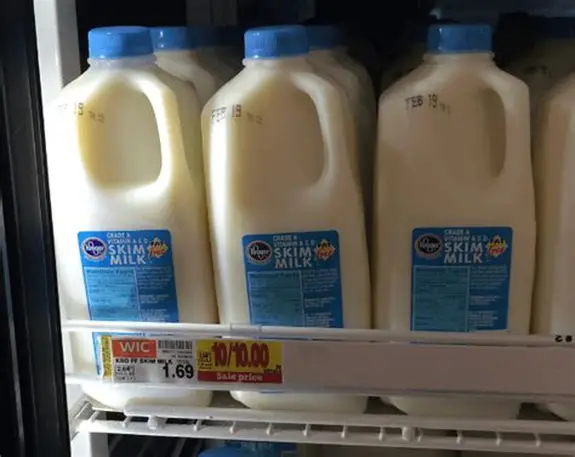milk: (384, 6, 539, 337), (213, 11, 358, 329), (52, 14, 197, 320)
